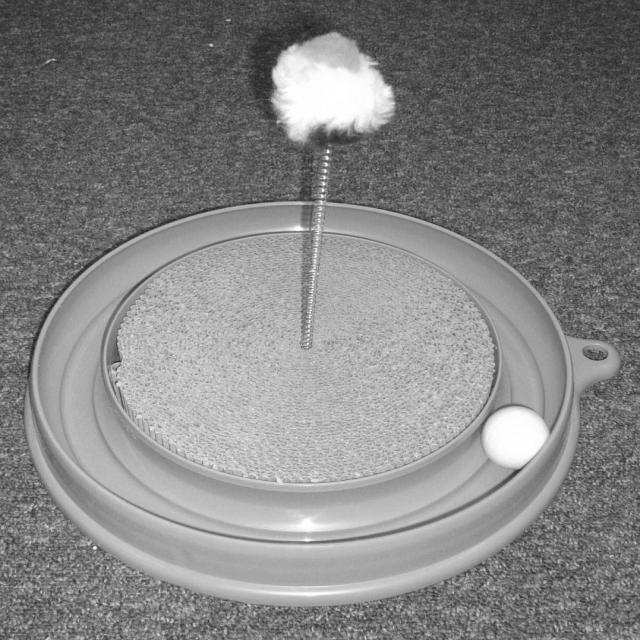ping-pong-ball: (482, 406, 555, 468)
